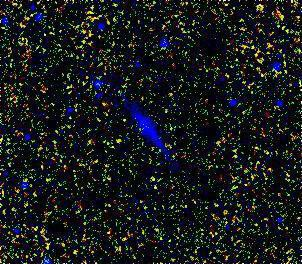star: (103, 126, 133, 156)
